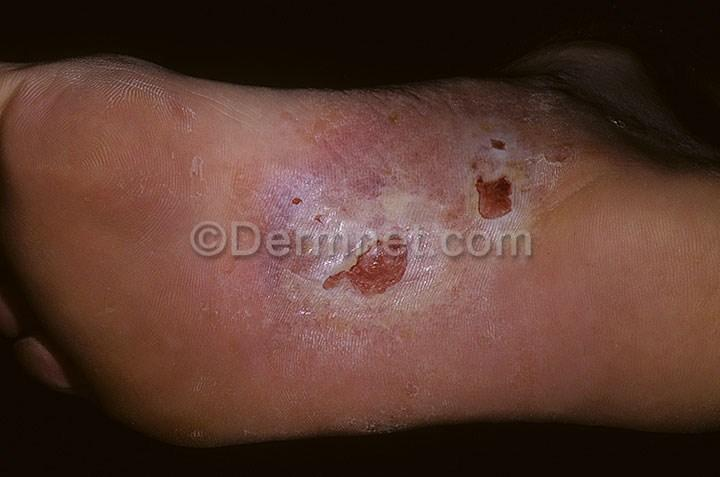Eczema: (249, 189, 431, 339), (24, 93, 160, 216), (241, 328, 374, 394), (230, 387, 361, 449), (277, 141, 427, 195), (466, 144, 547, 243), (431, 297, 509, 391), (423, 179, 484, 295), (277, 88, 397, 136), (466, 87, 557, 148), (372, 336, 437, 409), (224, 134, 283, 214), (174, 317, 249, 379), (156, 172, 226, 237), (195, 237, 242, 319), (414, 110, 464, 176), (389, 79, 481, 114), (75, 62, 179, 92), (166, 91, 223, 143), (568, 102, 623, 154), (341, 409, 425, 438), (549, 127, 585, 192), (12, 64, 80, 96), (178, 140, 218, 191), (516, 352, 549, 407), (449, 394, 495, 420)
